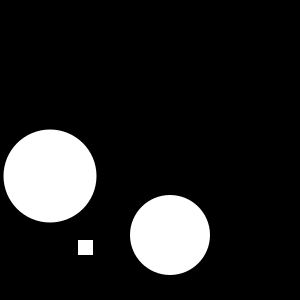circle: (78, 240, 93, 255)
rectangle: (3, 130, 96, 222), (130, 195, 210, 275)
